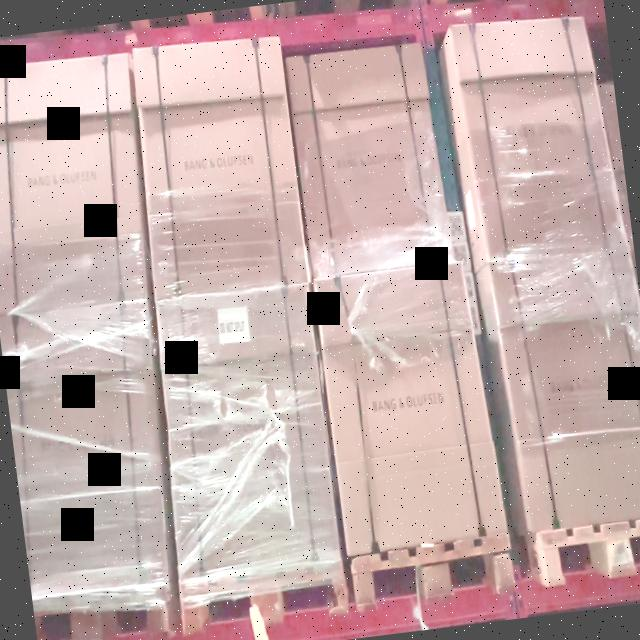box: (314, 258, 505, 563), (157, 284, 340, 583), (131, 37, 308, 300), (451, 18, 627, 260), (286, 38, 455, 283)
